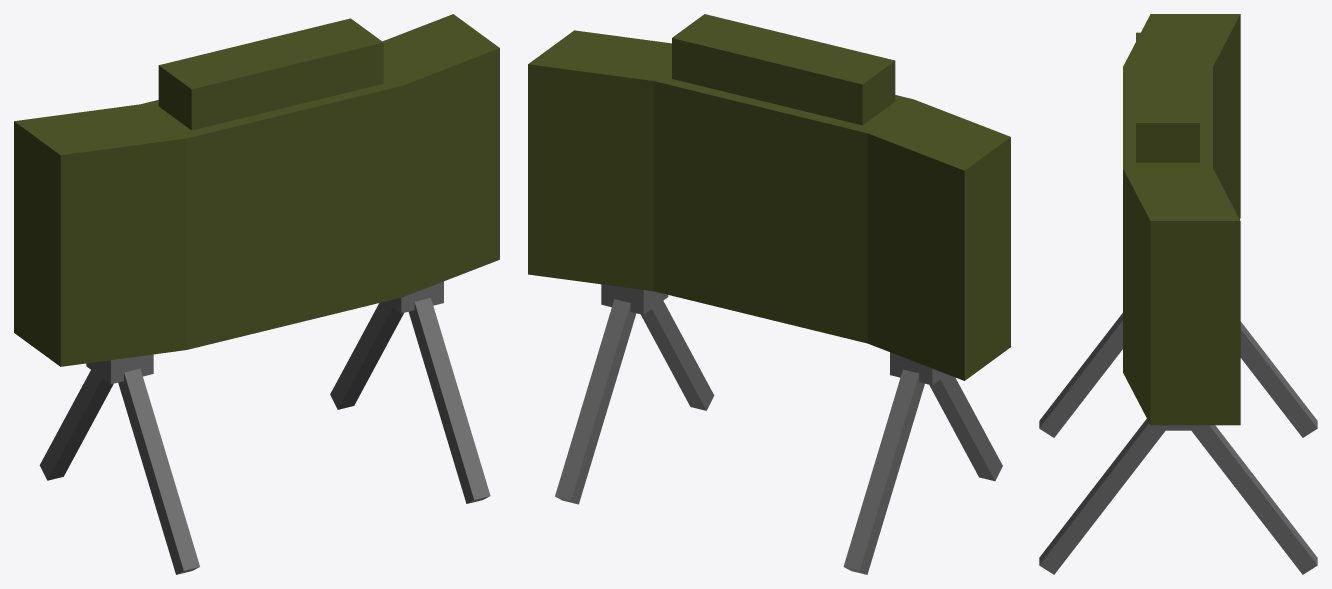
File: M18_Claymore.fbx
The picture shows the model from 3 angles, left to right: view 1: azimuth 30°, elevation 25°; view 2: azimuth 150°, elevation 25°; view 3: azimuth 270°, elevation 25°; orthographic projection. The views are drawn at different scales.
Visible parts, largest first — view 1: M18_Claymore; view 2: M18_Claymore; view 3: M18_Claymore.
Boxes of the visible parts, box(x1,y1,x2,y2) form: M18_Claymore: box(14, 14, 499, 574); M18_Claymore: box(528, 14, 1010, 574); M18_Claymore: box(1039, 14, 1317, 574).
Bounding box in the file's own units: 24.99 × 23.93 × 14.2.
